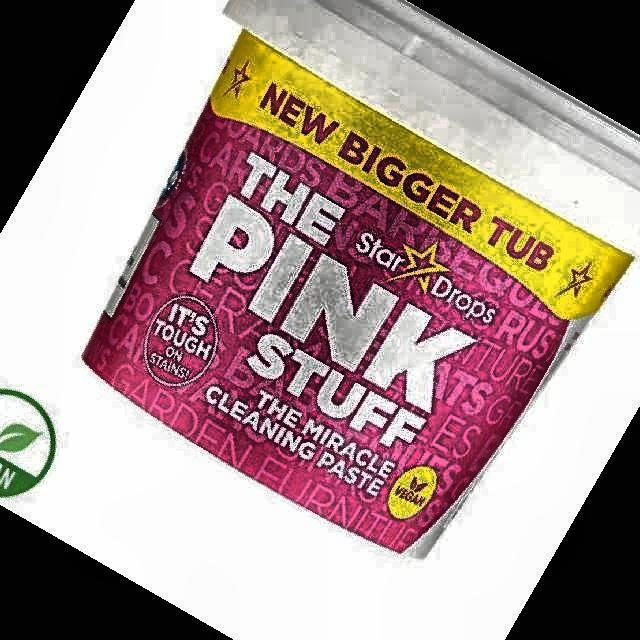plastic: (85, 0, 640, 554)
